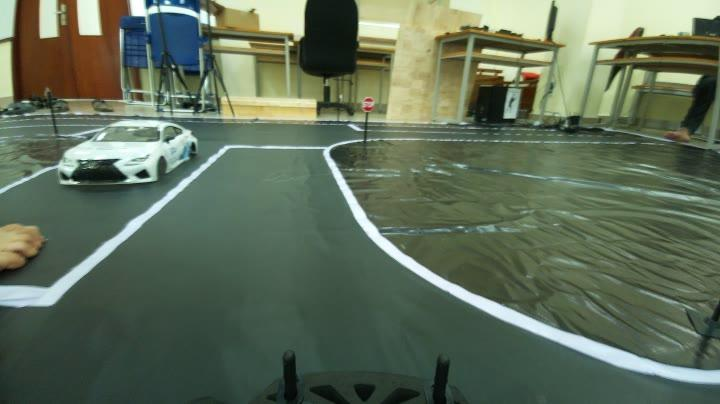car: (61, 112, 180, 191)
stop: (358, 92, 379, 115)
